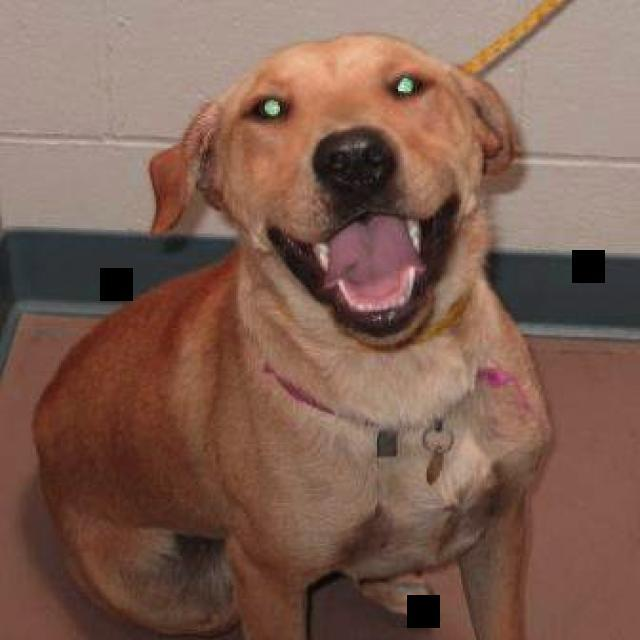adult_dog: (23, 27, 561, 640)
